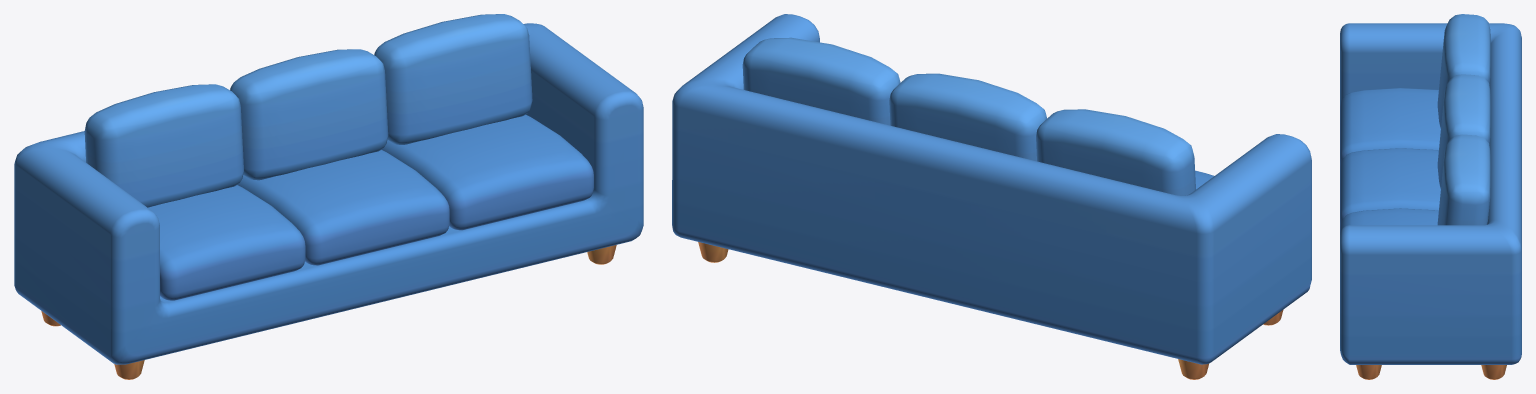
File: Couch_08.glb
3 renders of one model, left to right at view 1: azimuth 30°, elevation 25°; view 2: azimuth 150°, elevation 25°; view 3: azimuth 270°, elevation 25°, orthographic. The views are drawn at different scales.
Visible parts, largest first — view 1: Couch_08; view 2: Couch_08; view 3: Couch_08.
Part boxes in pixels (x1,y1,x2,y2): Couch_08: (14,14,643,379); Couch_08: (672,14,1311,379); Couch_08: (1340,14,1521,379).
Bounding box in the file's own units: 2.21 × 0.8621 × 0.765.
Materials: 1 (1 with a texture image).
